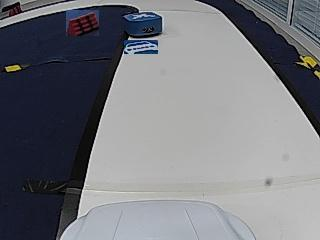prop: (124, 12, 162, 38)
